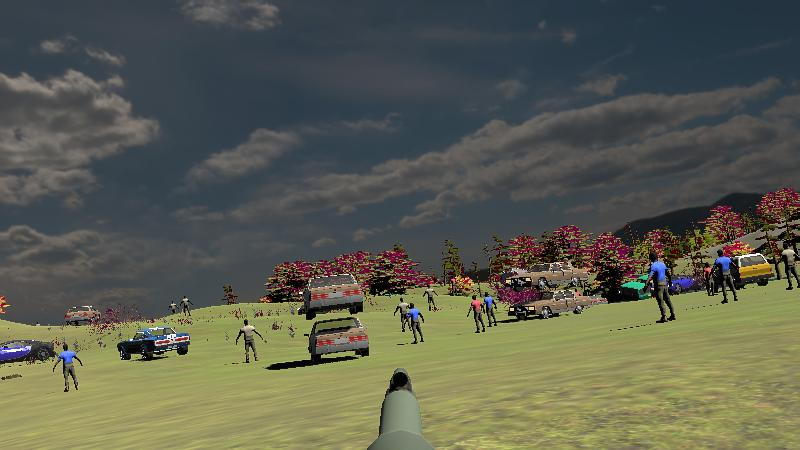Human: (646, 251, 675, 323), (711, 248, 739, 304), (53, 342, 83, 393), (780, 241, 799, 291), (405, 303, 425, 344), (467, 293, 485, 334), (483, 291, 498, 328)
car: (308, 315, 369, 363), (303, 276, 364, 318), (117, 326, 190, 361), (507, 261, 591, 290), (618, 274, 685, 310), (513, 289, 589, 320), (0, 338, 55, 367), (731, 252, 774, 289), (65, 304, 101, 326)
